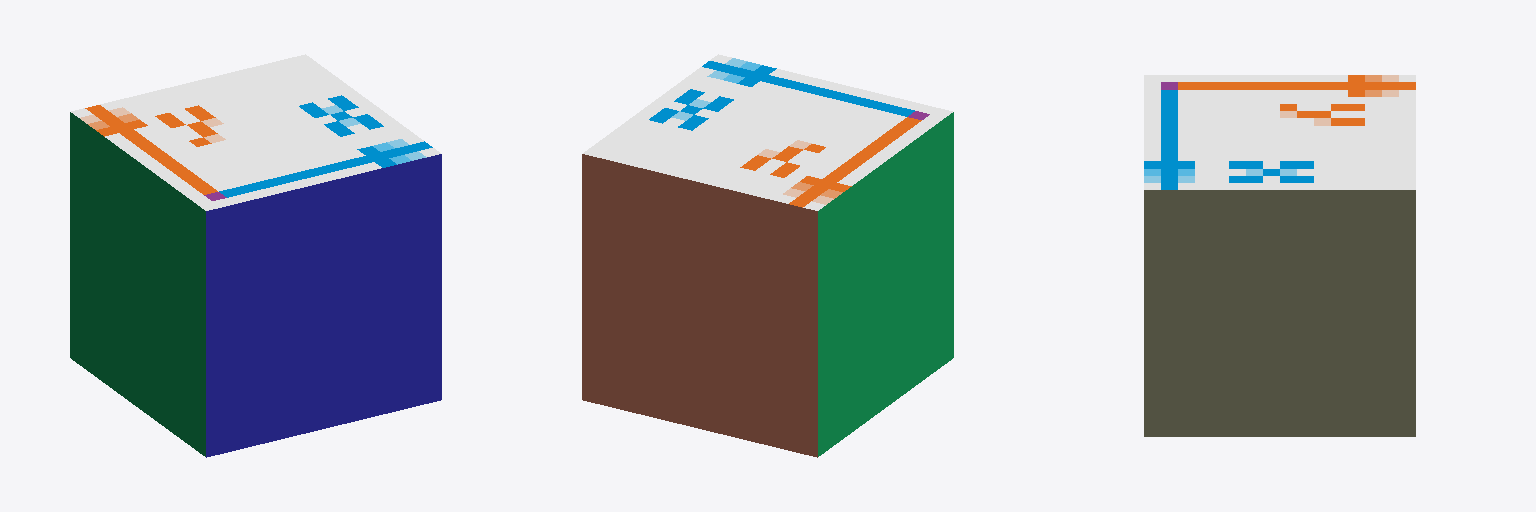
3 renders of one model, left to right at view 1: azimuth 30°, elevation 25°; view 2: azimuth 150°, elevation 25°; view 3: azimuth 270°, elevation 25°, orthographic.
Parts seen in each view (by area): view 1: cube; view 2: cube; view 3: cube.
Part boxes in pixels (bbox=[...]): cube: bbox=[70, 54, 441, 457]; cube: bbox=[582, 54, 953, 457]; cube: bbox=[1144, 75, 1415, 436].
Size of the model in its own units: 1 by 1 by 1.
Materials: 6 (1 with a texture image).